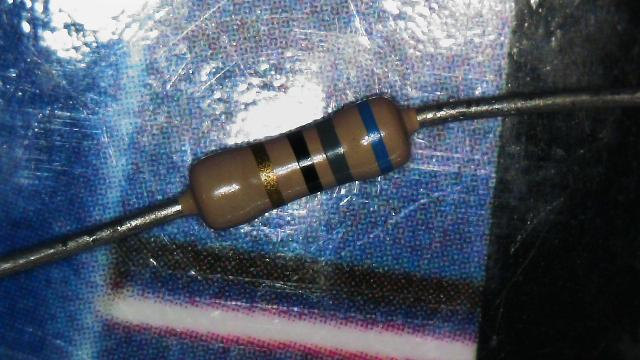black: (287, 130, 322, 194)
blue: (356, 102, 394, 175)
gold: (251, 142, 283, 206)
grey: (316, 118, 352, 184)
resistor: (157, 74, 439, 256)
